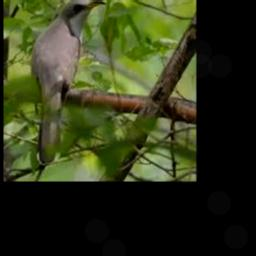Cuckoo: (31, 0, 105, 162)
